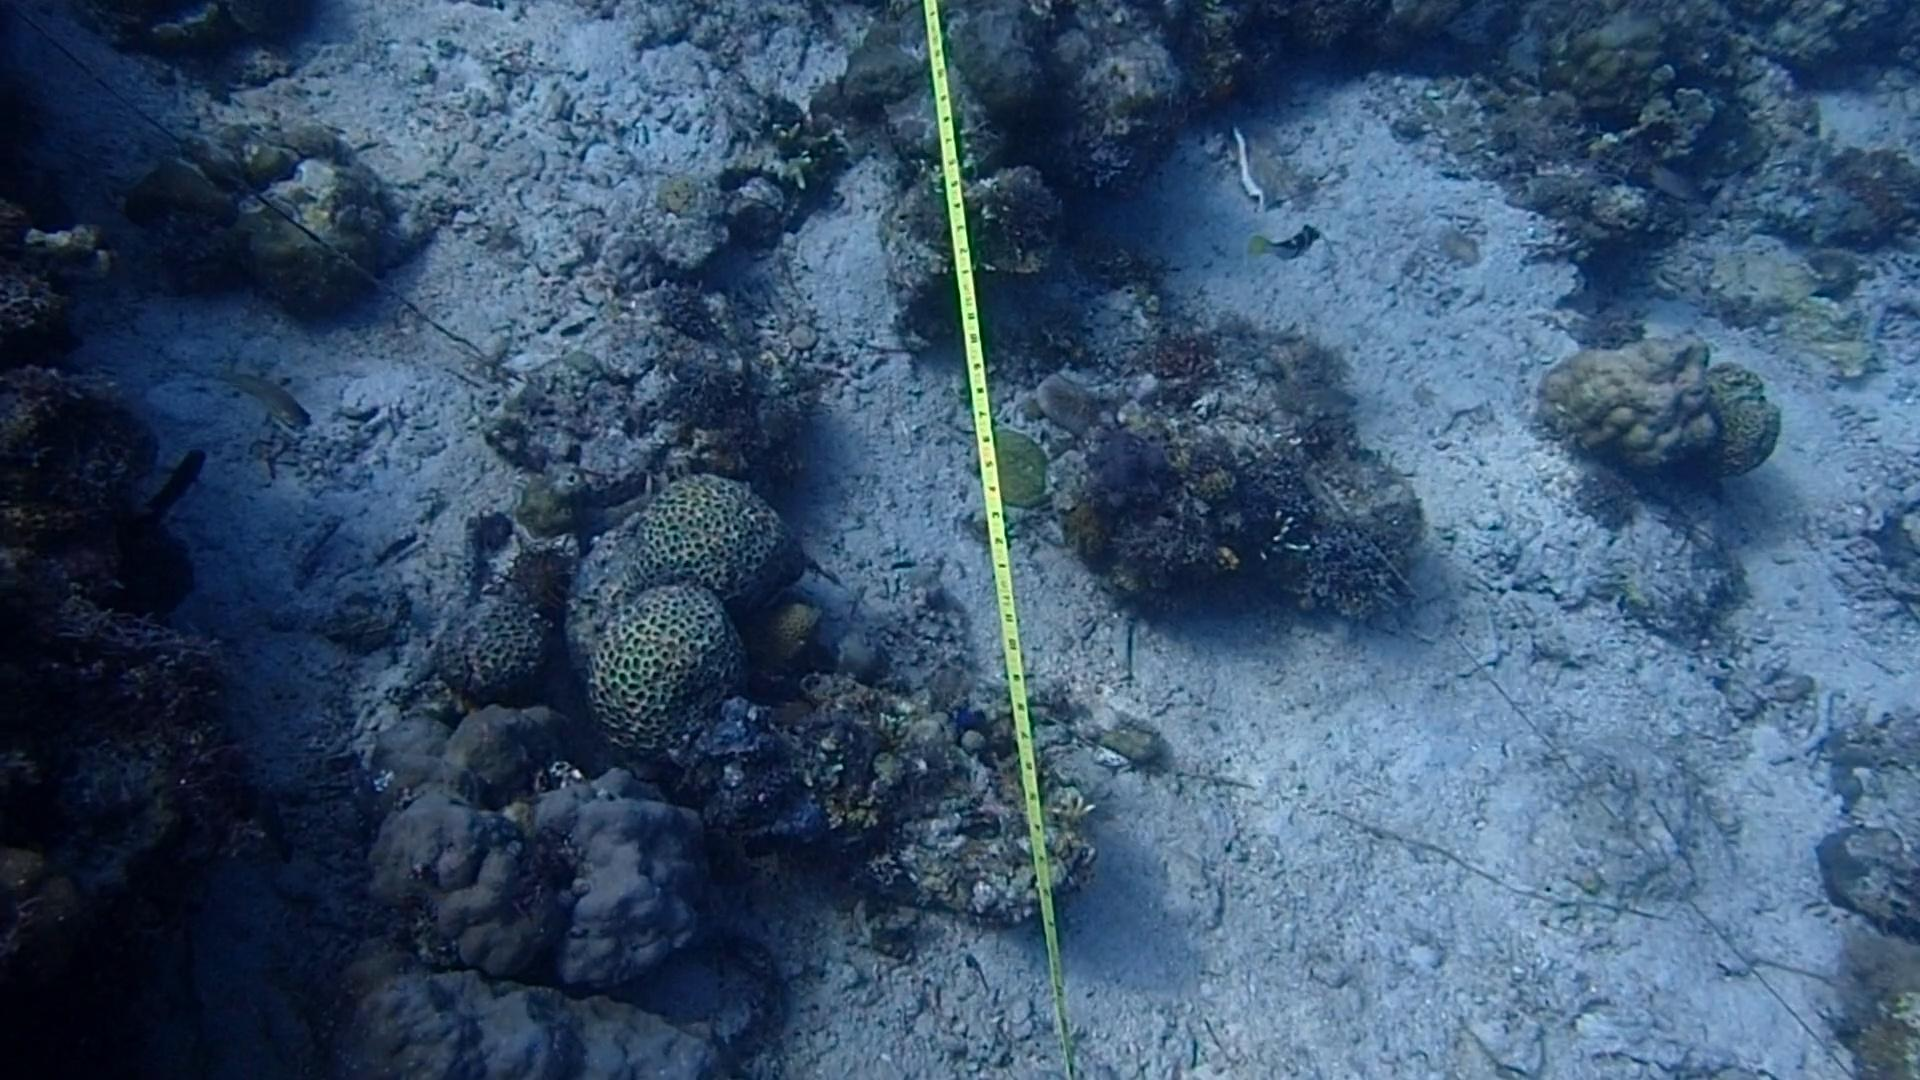Striped Fish: (1250, 223, 1323, 276)
